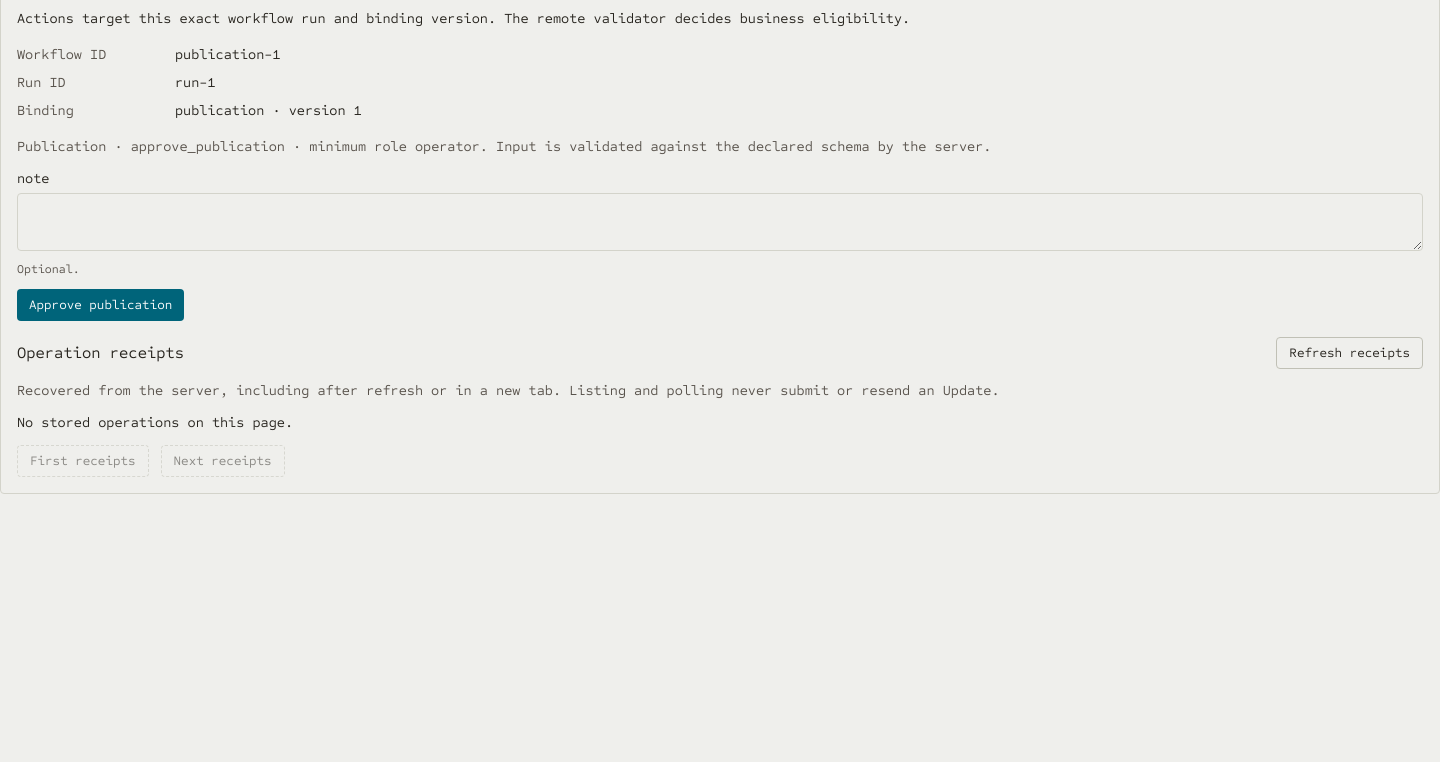
Test: declared connector approval › recovers a conflicting operator's open receipt instead of reporting a second submission
Step 1. Click the button "Approve publication" → coordinates (101, 305), box x1=17 y1=289 x2=184 y2=321
(page scrolled)
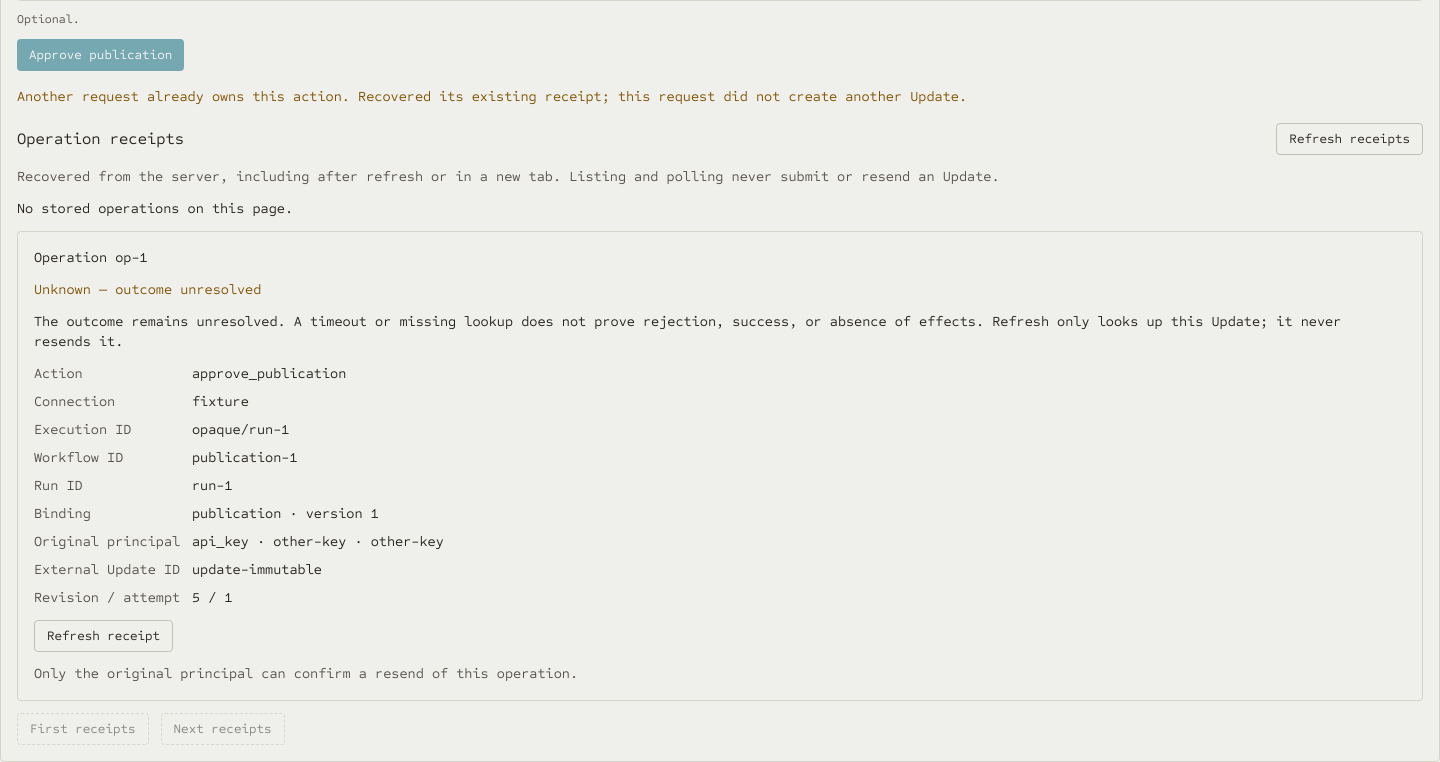
Check: the text "Another request already owns this action" is shown, box x1=17 y1=88 x2=967 y2=105
